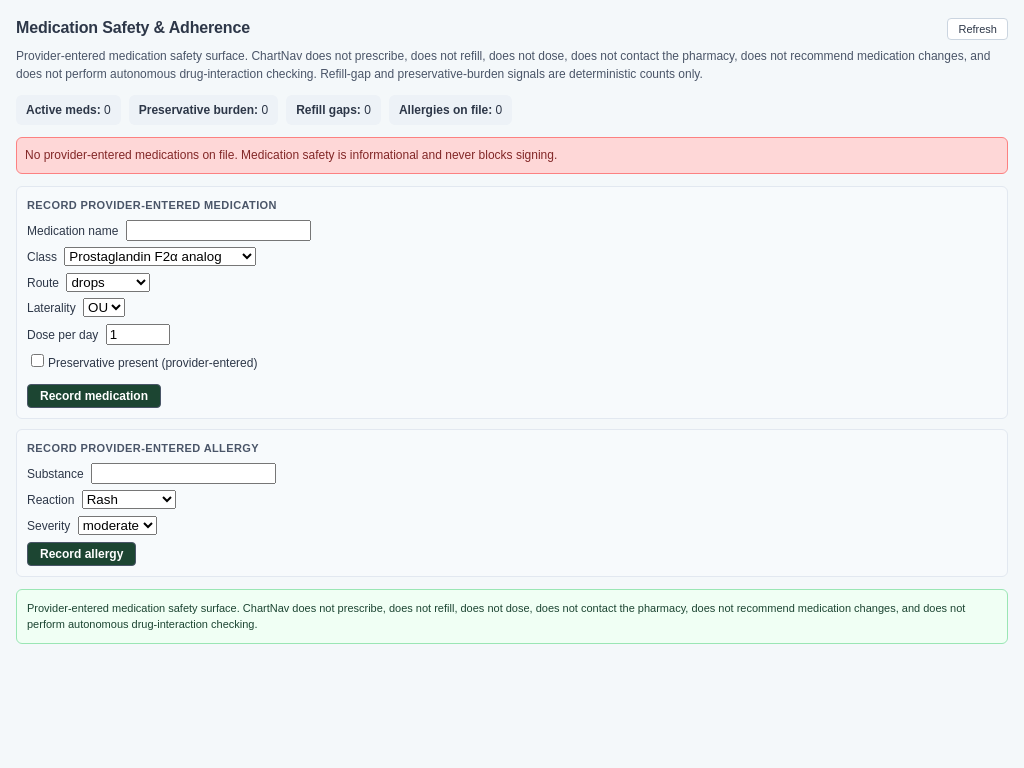
MedicationSafetyPanel — form interactions › surfaces submit errors in inline banner
Expected: the button with test id "medication-submit-btn" is shown, x1=27 y1=384 x2=161 y2=408
Type "Latanoprost" into the field with test id "medication-name-input". click: {"x": 218, "y": 230}
box: x1=126 y1=220 x2=311 y2=241
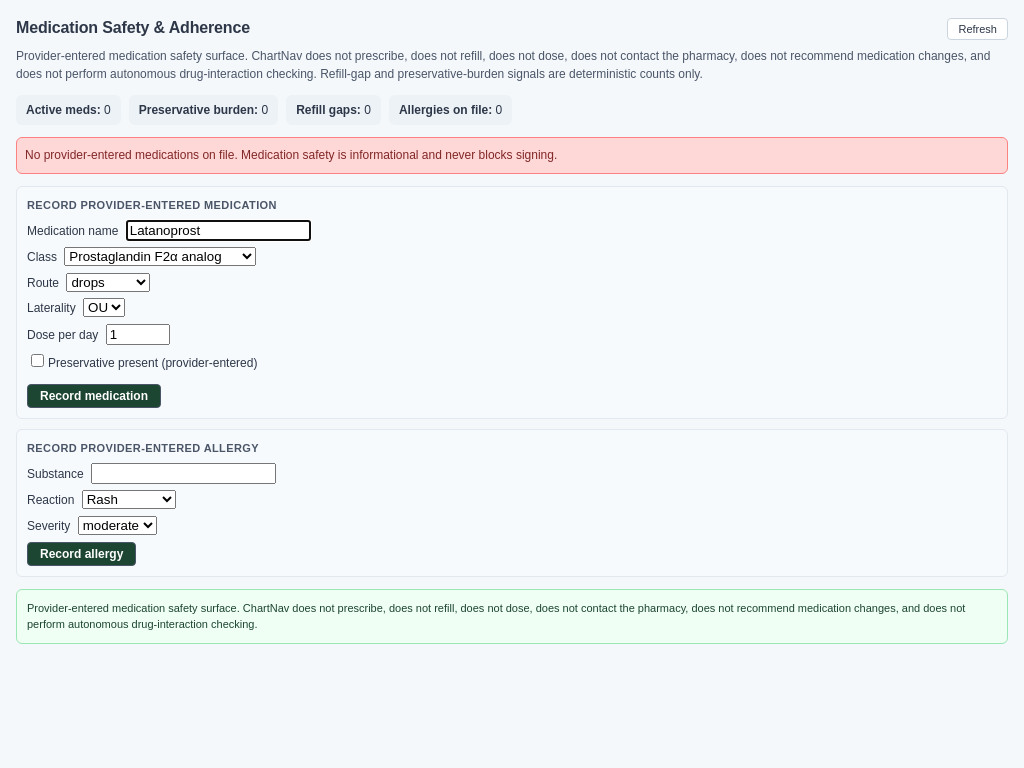
Click the button with test id "medication-submit-btn". click: {"x": 94, "y": 396}
box: x1=27 y1=384 x2=161 y2=408
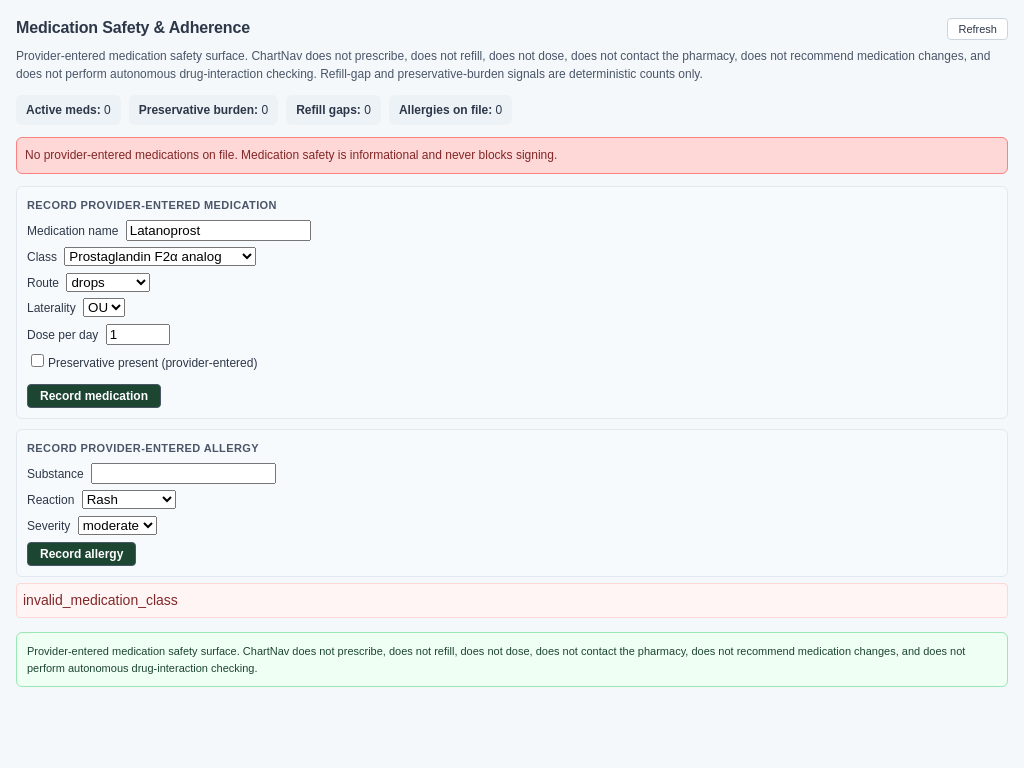
Now the text "invalid_medication_class" is shown, box x1=16 y1=583 x2=1008 y2=618
Now the text with test id "medication-submit-error" reads "invalid_medication_class", box x1=23 y1=592 x2=178 y2=608
